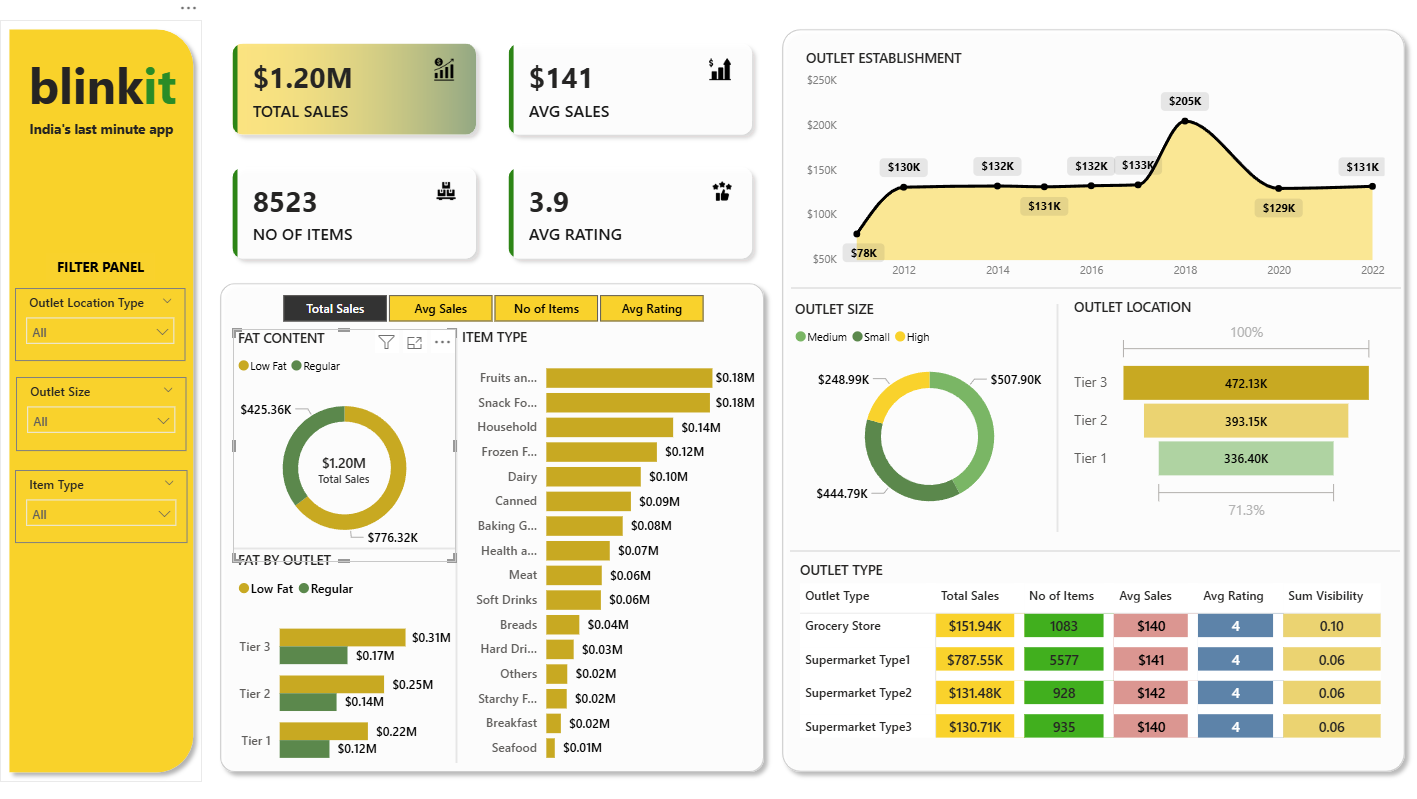

This screenshot's page, from the dashboard's own definition file:
{"tool":"powerbi","page":{"name":"Page 1","canvas":[1400,800],"ordinal":0},"visuals":[{"type":"shape","box":[0,25.6,199.5,750.3],"z":0},{"type":"textbox","box":[16.5,51.2,168.4,86],"z":1000},{"type":"textbox","box":[0,119,199.5,36.6],"z":2000},{"type":"cardVisual","fields":{"Data":["BlinkIT Grocery Data.Total Sales","BlinkIT Grocery Data.Avg Sales","BlinkIT Grocery Data.No of Items","BlinkIT Grocery Data.Avg Rating"]},"box":[200.3,19.8,570.1,270.6],"z":3000},{"type":"shape","box":[207.5,276,553.9,499.7],"z":4000},{"type":"donutChart","title":"FAT CONTENT","fields":{"Y":["BlinkIT Grocery Data.Total Sales"],"Category":["BlinkIT Grocery Data.Item Fat Content"]},"box":[229.6,330,219.7,229.6],"z":5000},{"type":"slicer","fields":{"Values":["Metrics.Metrics"]},"box":[253.2,289.9,464.2,40.4],"z":6000},{"type":"cardVisual","fields":{"Data":["BlinkIT Grocery Data.Total Sales"]},"box":[295,426.6,88.5,84],"z":7000},{"type":"clusteredBarChart","title":"FAT BY OUTLET","fields":{"Y":["BlinkIT Grocery Data.Total Sales"],"Category":["BlinkIT Grocery Data.Outlet Location Type"],"Series":["BlinkIT Grocery Data.Item Fat Content"]},"box":[229.2,549.1,219.8,229.2],"z":8000},{"type":"shape","box":[229.6,530,219.7,32.5],"z":9000},{"type":"shape","box":[438.4,329.1,22.7,428.6],"z":10000},{"type":"barChart","title":"ITEM TYPE","fields":{"Y":["BlinkIT Grocery Data.Total Sales"],"Category":["BlinkIT Grocery Data.Item Type"]},"box":[450.2,329.1,298.5,438.4],"z":11000},{"type":"shape","box":[761.6,25.6,631.5,749.8],"z":12000},{"type":"lineChart","title":"OUTLET ESTABLISHMENT","fields":{"Category":["BlinkIT Grocery Data.Outlet Establishment Year"],"Y":["BlinkIT Grocery Data.Total Sales"]},"box":[789.6,54.5,580,236],"z":13000},{"type":"shape","box":[779.3,283.7,601,11.8],"z":14000},{"type":"donutChart","title":"OUTLET SIZE","fields":{"Y":["BlinkIT Grocery Data.Total Sales"],"Category":["BlinkIT Grocery Data.Outlet Size"]},"box":[778.3,301.5,274.9,224.6],"z":15000},{"type":"shape","box":[1030.5,305.4,22.7,224.6],"z":16000},{"type":"funnel","title":"OUTLET LOCATION","fields":{"Y":["Sum(BlinkIT Grocery Data.Sales)"],"Category":["BlinkIT Grocery Data.Outlet Location Type"]},"box":[1053.2,299.5,305.4,224.6],"z":17000},{"type":"shape","box":[778.3,542.9,601,11.8],"z":18000},{"type":"pivotTable","title":"OUTLET TYPE","fields":{"Rows":["BlinkIT Grocery Data.Outlet Type"],"Values":["BlinkIT Grocery Data.Total Sales","BlinkIT Grocery Data.No of Items","BlinkIT Grocery Data.Avg Sales","BlinkIT Grocery Data.Avg Rating","Avg(BlinkIT Grocery Data.Item Visibility)"]},"box":[782.8,558.2,592.2,188.3],"z":19000},{"type":"slicer","fields":{"Values":["BlinkIT Grocery Data.Outlet Location Type"]},"box":[14.8,289.7,168.5,71.9],"z":20000},{"type":"slicer","fields":{"Values":["BlinkIT Grocery Data.Outlet Size"]},"box":[15.8,377.3,168.5,72.9],"z":21000},{"type":"slicer","fields":{"Values":["BlinkIT Grocery Data.Item Type"]},"box":[14.8,469,170.4,71.9],"z":22000},{"type":"textbox","box":[45.3,255.2,107.4,28.6],"z":23000}]}

Visuals, with their boxes in screenshot pixels (x1, y1, x2, y2), scaled from the page's 1400x800 canvas onto the 1417x799 screenshot:
shape: 0, 26, 202, 775
textbox: 17, 51, 187, 137
textbox: 0, 119, 202, 155
cardVisual - BlinkIT Grocery Data.Total Sales x BlinkIT Grocery Data.Avg Sales: 203, 20, 780, 290
shape: 210, 276, 771, 775
"FAT CONTENT" donutChart: 232, 330, 455, 559
slicer - Metrics.Metrics: 256, 290, 726, 330
cardVisual - BlinkIT Grocery Data.Total Sales: 299, 426, 388, 510
"FAT BY OUTLET" clusteredBarChart: 232, 548, 454, 777
shape: 232, 529, 455, 562
shape: 444, 329, 467, 757
"ITEM TYPE" barChart: 456, 329, 758, 767
shape: 771, 26, 1410, 774
"OUTLET ESTABLISHMENT" lineChart: 799, 54, 1386, 290
shape: 789, 283, 1397, 295
"OUTLET SIZE" donutChart: 788, 301, 1066, 525
shape: 1043, 305, 1066, 529
"OUTLET LOCATION" funnel: 1066, 299, 1375, 523
shape: 788, 542, 1396, 554
"OUTLET TYPE" pivotTable: 792, 558, 1392, 746
slicer - BlinkIT Grocery Data.Outlet Location Type: 15, 289, 186, 361
slicer - BlinkIT Grocery Data.Outlet Size: 16, 377, 187, 450
slicer - BlinkIT Grocery Data.Item Type: 15, 468, 187, 540
textbox: 46, 255, 155, 283
